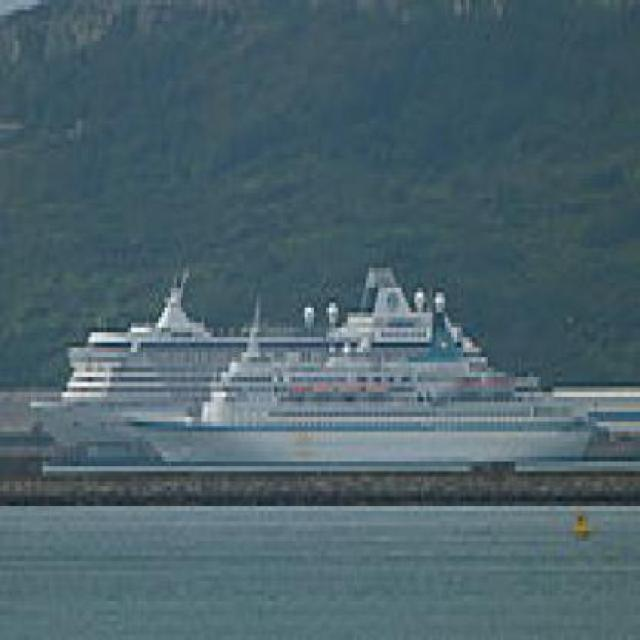cruise: (135, 244, 619, 487)
